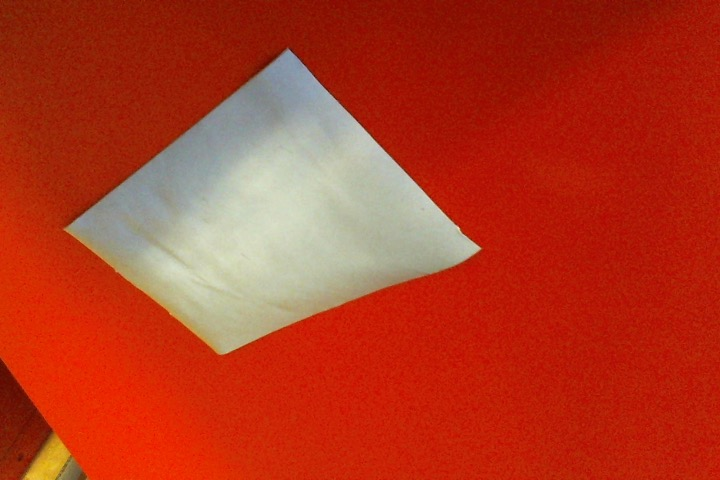Tape: (63, 49, 482, 355)
